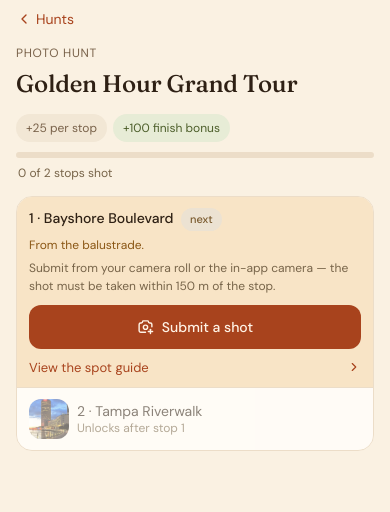
Test case: Hunt detail — native capture › surfaces a camera permission error where the user can read it
The width and height of the screenshot is (390, 512).
What coordinates should you click on to do the following:
click the button "Submit a shot"
I would click on:
 (195, 326)
Its box is left=29, top=304, right=361, bottom=348.
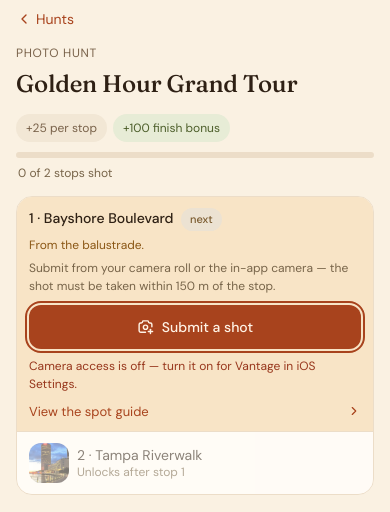
Check: the text "turn it on for Vantage in iOS Settings" is shown, box left=29, top=358, right=316, bottom=392
